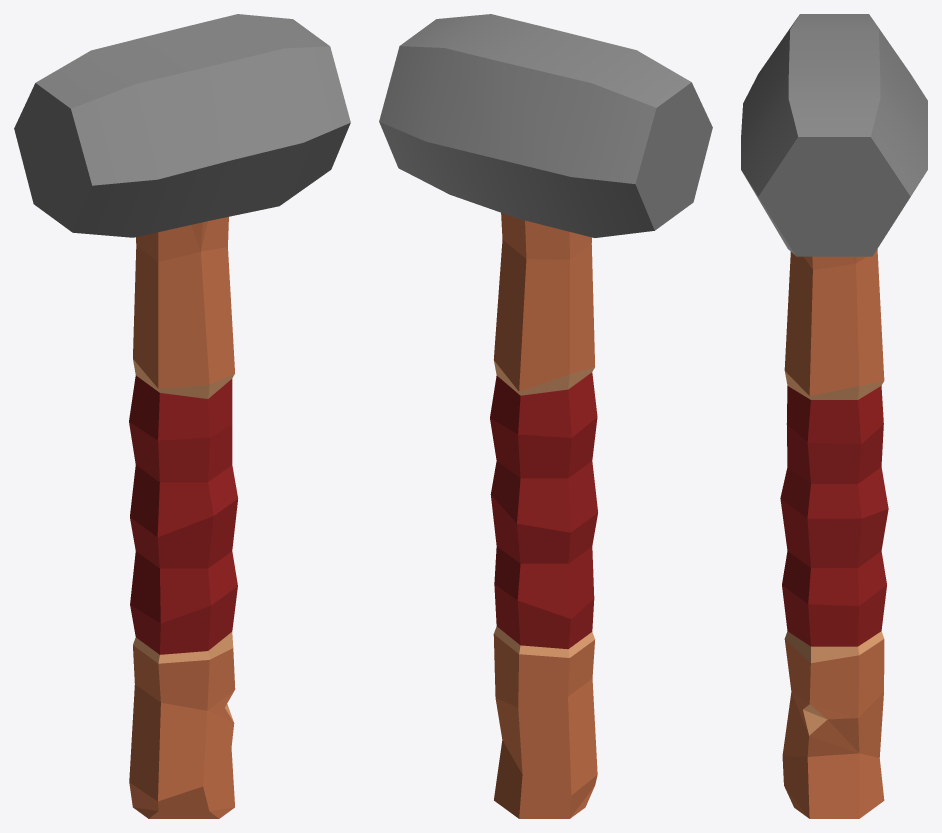
The model's file is hammer.glb.
3 views of the same model, side by side, from view 1: azimuth 30°, elevation 25°; view 2: azimuth 150°, elevation 25°; view 3: azimuth 270°, elevation 25° (orthographic). The views are drawn at different scales.
Visible parts, largest first — view 1: WoodWork_Hammer; view 2: WoodWork_Hammer; view 3: WoodWork_Hammer.
Part boxes in pixels (bbox=[...]): WoodWork_Hammer: bbox=[14, 14, 350, 818]; WoodWork_Hammer: bbox=[379, 14, 712, 818]; WoodWork_Hammer: bbox=[741, 14, 927, 818].
Size of the model in its own units: 0.4109 by 1.15 by 0.2636.
Materials: 1 (1 with a texture image).
